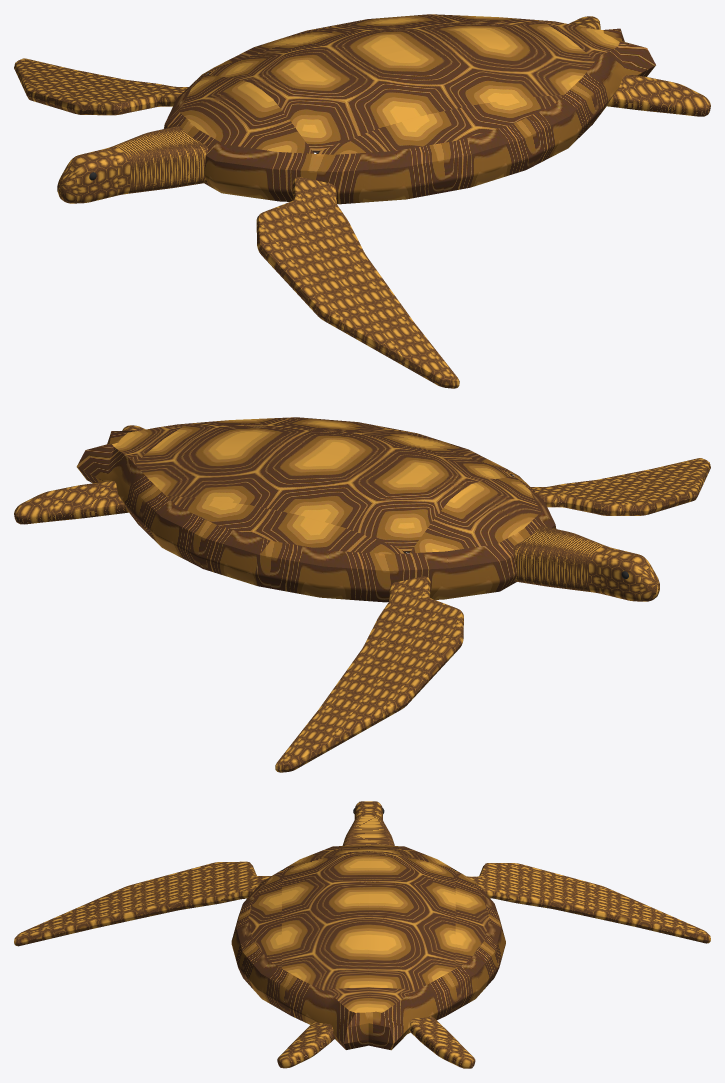
The model's file is Turtle.fbx.
3 renders of one model, top to bottom at view 1: azimuth 30°, elevation 25°; view 2: azimuth 150°, elevation 25°; view 3: azimuth 270°, elevation 25°, orthographic. The views are drawn at different scales.
Visible parts, largest first — view 1: pCylinder1, pCube7, pCube6, pCube8, pCube5; view 2: pCylinder1, pCube8, pCube6, pCube7, pCube4; view 3: pCylinder1, pCube7, pCube8, pCube4, pCube6, pCube5.
Boxes of the visible parts, x1,y1,x2,y2 form: pCylinder1: (164,14,655,204); pCube7: (256,177,459,388); pCube6: (57,126,208,203); pCube8: (14,58,188,115); pCube5: (607,75,710,116); pCylinder1: (76,417,556,602); pCube8: (275,576,463,772); pCube6: (513,526,659,601); pCube7: (531,458,710,515); pCube4: (14,481,128,524); pCylinder1: (231,844,505,1050); pCube7: (14,861,270,946); pCube8: (467,863,710,943); pCube4: (409,1016,475,1068); pCube6: (342,801,394,845); pCube5: (277,1021,335,1068).
Size of the model in its own units: 4.76 by 1.04 by 5.99.
3 materials, 2 textured.
